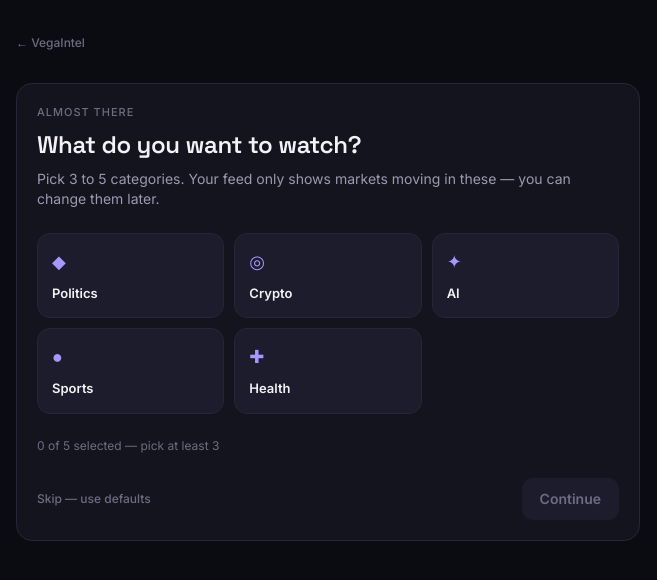
Test: OnboardingPage › shows an error and does not navigate when Cygnus rejects the selection
Click the button "◆ Politics" at (131, 276), box left=37, top=233, right=224, bottom=318
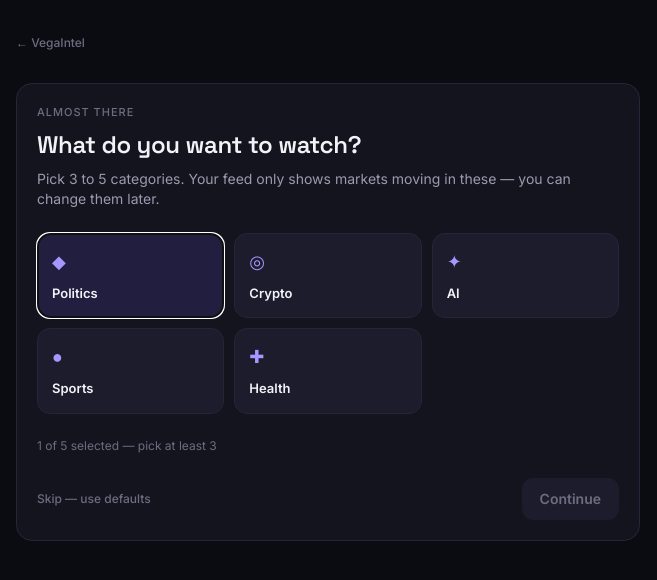
Click the button "◎ Crypto" at (328, 276), box left=234, top=233, right=422, bottom=318
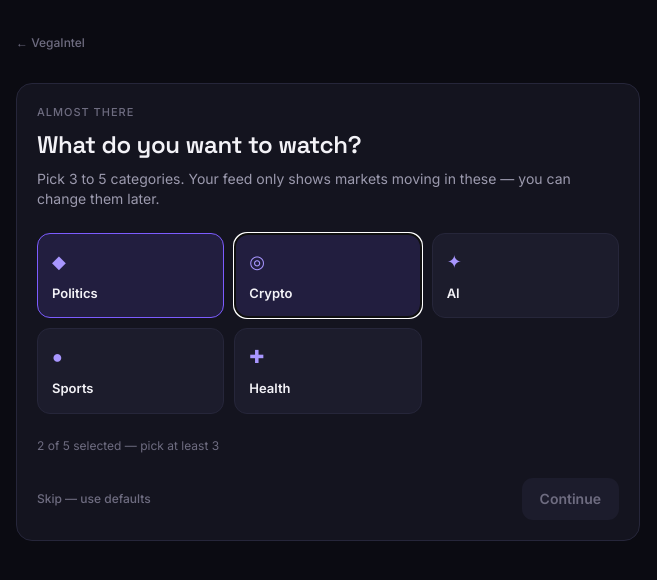
Click the button "✦ AI" at (525, 276), box left=432, top=233, right=619, bottom=318
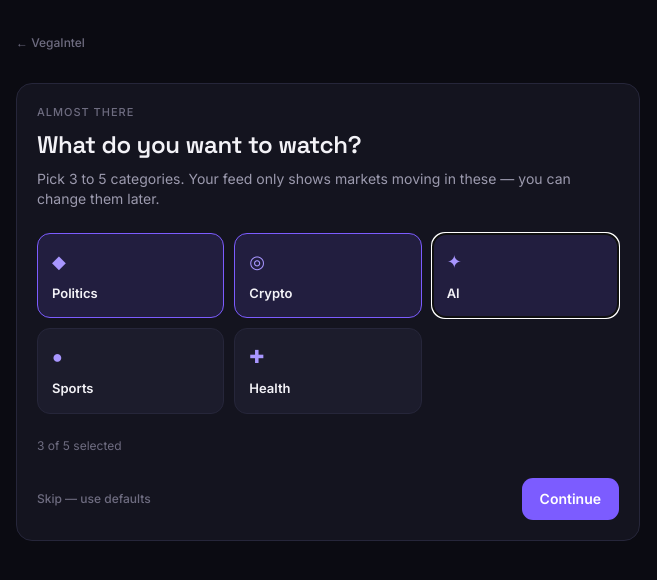
Click the button "Continue" at (570, 499), box left=522, top=478, right=619, bottom=520
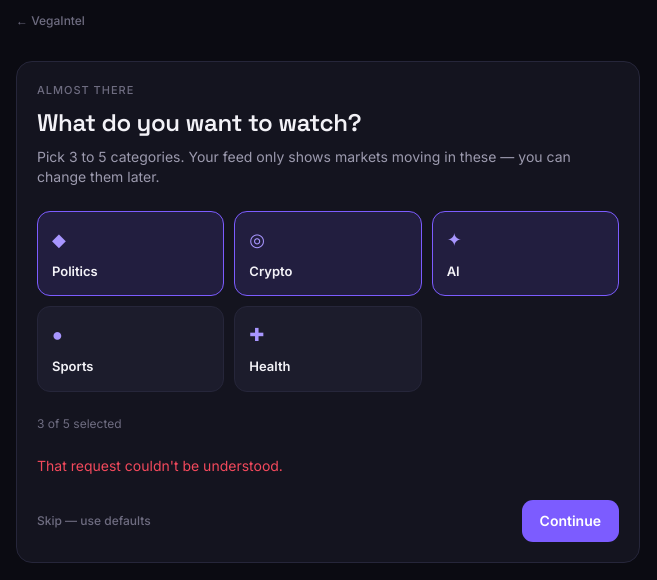
expect the text "That request couldn't be understood." is shown: met, box left=37, top=457, right=283, bottom=474
